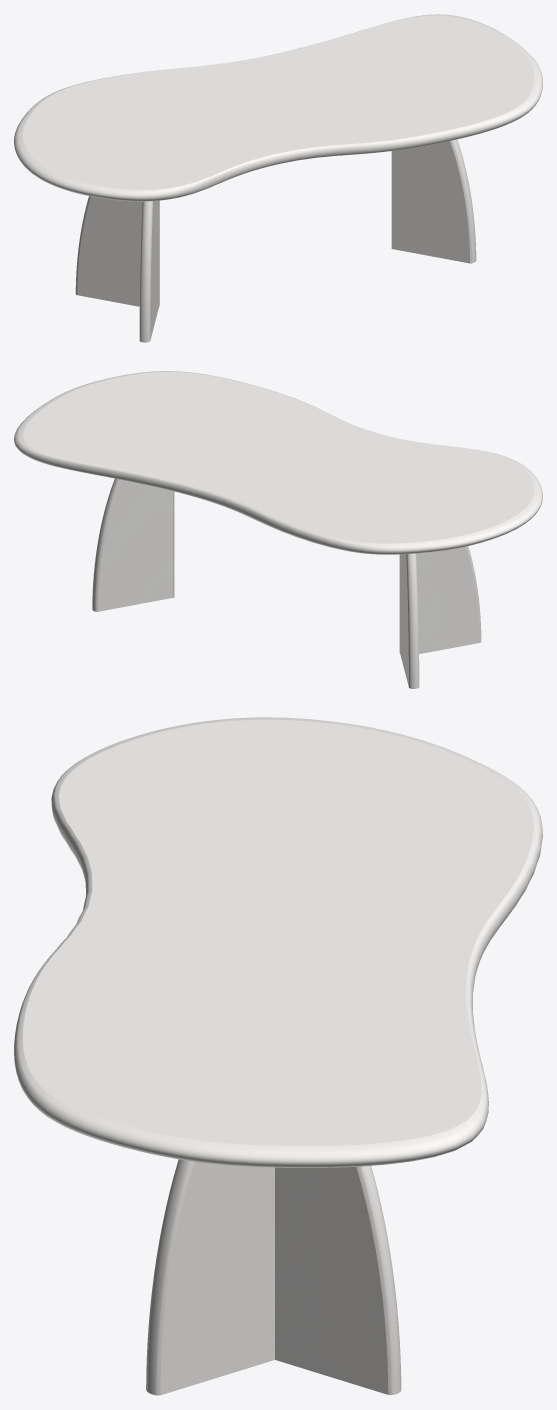
Rendered from purewhite_wave_round_newtable2.glb.
The picture shows the model from 3 angles, top to bottom: view 1: azimuth 30°, elevation 25°; view 2: azimuth 150°, elevation 25°; view 3: azimuth 270°, elevation 25°; orthographic projection. The views are drawn at different scales.
Visible parts, largest first — view 1: round_wave, newtable2_singleright2, newtable2_singleleft1, newtable2_singleright1; view 2: round_wave, newtable2_singleleft2, newtable2_singleright1, newtable2_singleleft1; view 3: round_wave, newtable2_singleright2, newtable2_singleleft2.
Part boxes in pixels (box(x1,y1,x2,y2)): round_wave: box(14, 14, 542, 201); newtable2_singleright2: box(391, 139, 476, 263); newtable2_singleleft1: box(75, 196, 159, 306); newtable2_singleright1: box(139, 200, 159, 342); round_wave: box(14, 371, 542, 554); newtable2_singleleft2: box(92, 478, 173, 611); newtable2_singleright1: box(399, 546, 481, 654); newtable2_singleleft1: box(400, 553, 419, 688); round_wave: box(14, 717, 542, 1167); newtable2_singleright2: box(146, 1159, 274, 1395); newtable2_singleleft2: box(275, 1166, 401, 1395).
Bounding box in the file's own units: 7.5 × 2.49 × 3.8.
Materials: 1 (1 with a texture image).
